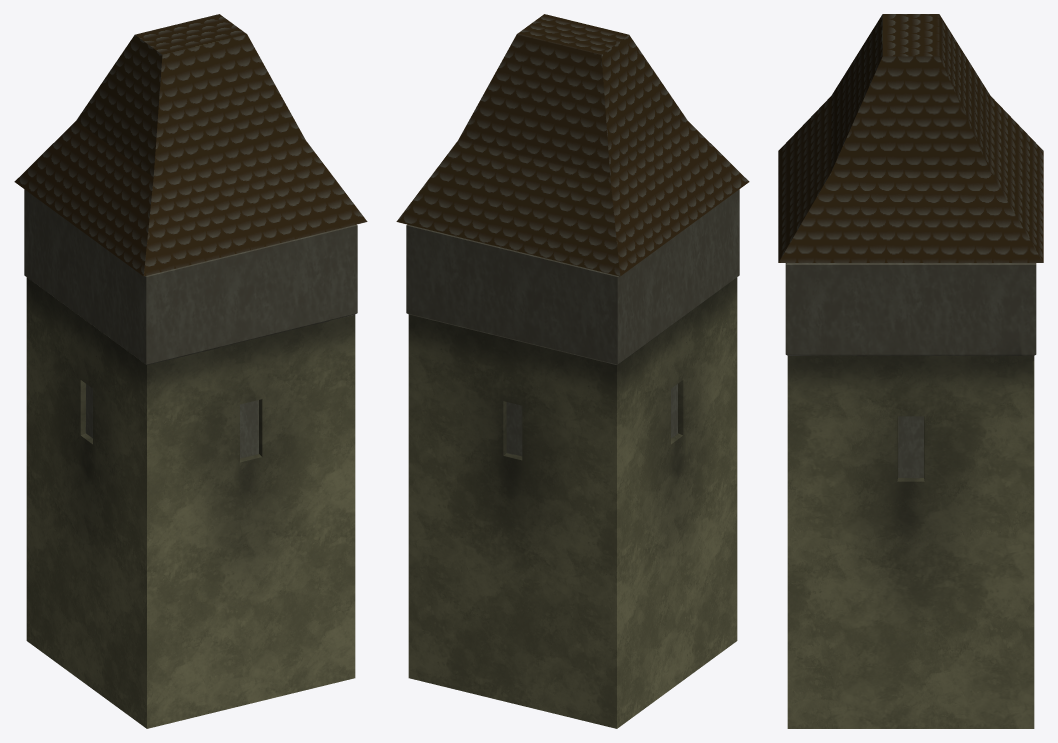
The model's file is tower.glb.
3 renders of one model, left to right at view 1: azimuth 30°, elevation 25°; view 2: azimuth 150°, elevation 25°; view 3: azimuth 270°, elevation 25°, orthographic. The views are drawn at different scales.
Parts seen in each view (by area): view 1: Cube; view 2: Cube; view 3: Cube.
Boxes of the visible parts, left/top/right/bottom form: Cube: left=14, top=14, right=367, bottom=728; Cube: left=396, top=14, right=749, bottom=728; Cube: left=778, top=14, right=1043, bottom=728.
Size of the model in its own units: 8.98 by 23.96 by 8.98.
1 material, 1 textured.
